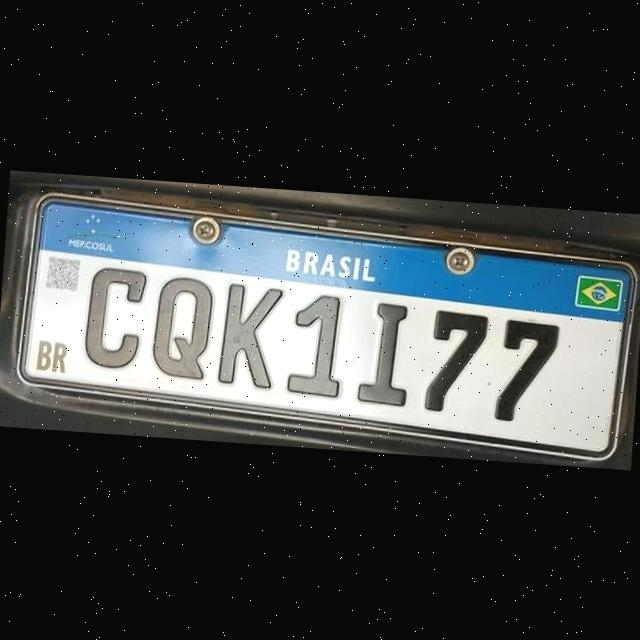Caractere: (281, 289, 352, 401), (421, 305, 490, 418), (214, 281, 283, 393), (82, 260, 150, 372), (494, 314, 562, 426), (150, 270, 217, 382), (354, 298, 418, 407)
Placa: (13, 194, 634, 461)
